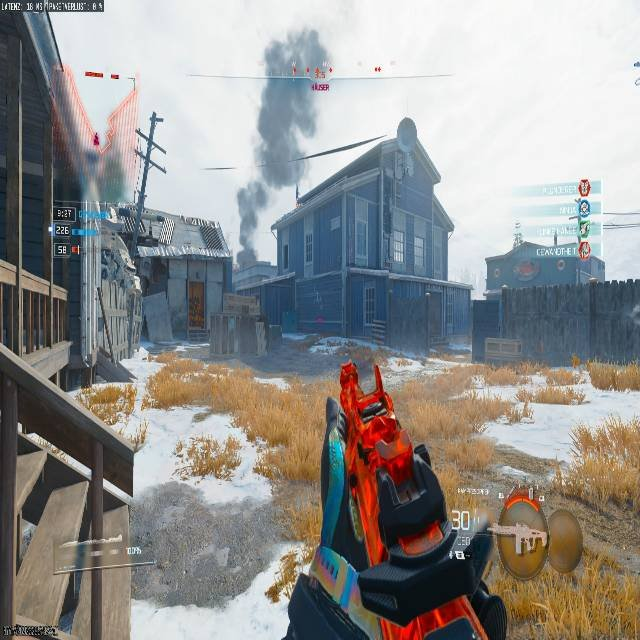head: (340, 361, 359, 390)
